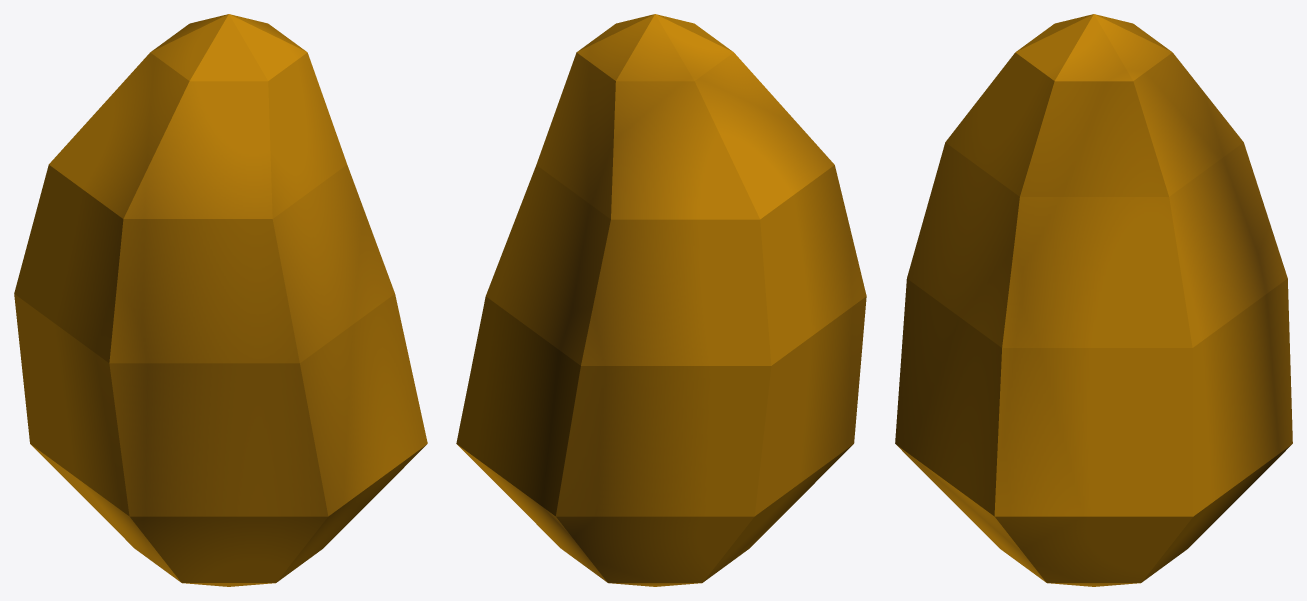
Rendered from Potato.fbx.
3 renders of one model, left to right at view 1: azimuth 30°, elevation 25°; view 2: azimuth 150°, elevation 25°; view 3: azimuth 270°, elevation 25°, orthographic.
Parts seen in each view (by area): view 1: Potato; view 2: Potato; view 3: Potato.
Boxes of the visible parts, box(x1,y1,x2,y2) form: Potato: box(14, 14, 427, 586); Potato: box(456, 14, 866, 586); Potato: box(895, 14, 1292, 586).
Bounding box in the file's own units: 193 × 335 × 211.
